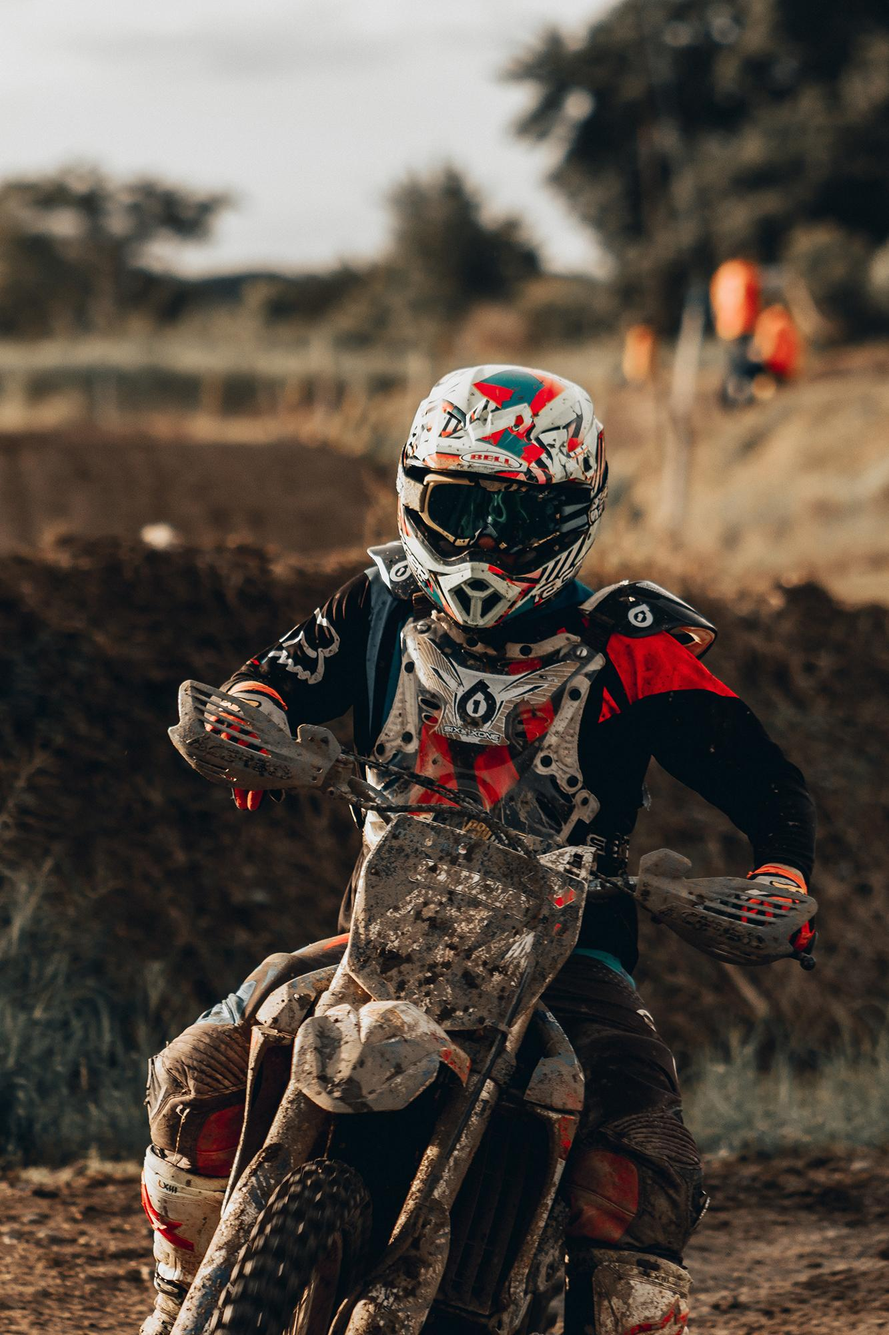helmet: (394, 362, 610, 635)
